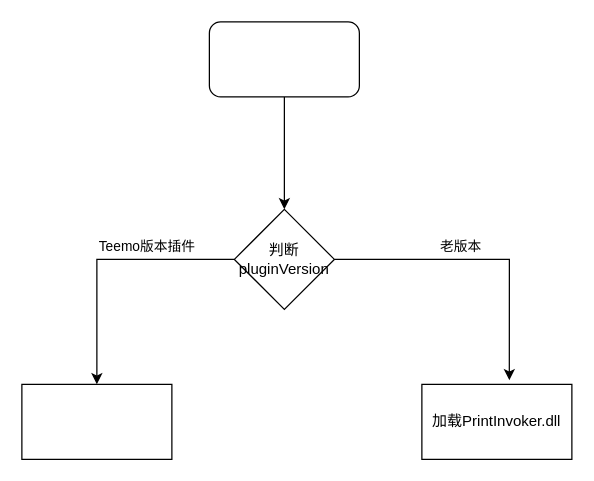
Some shapes in this 594 by 481 pixel diagram are drawn without their labels. Each missing label, with the centre of its shape:
加载TmPrint.dll: pixel 96 421
执行打印: pixel 283 59
